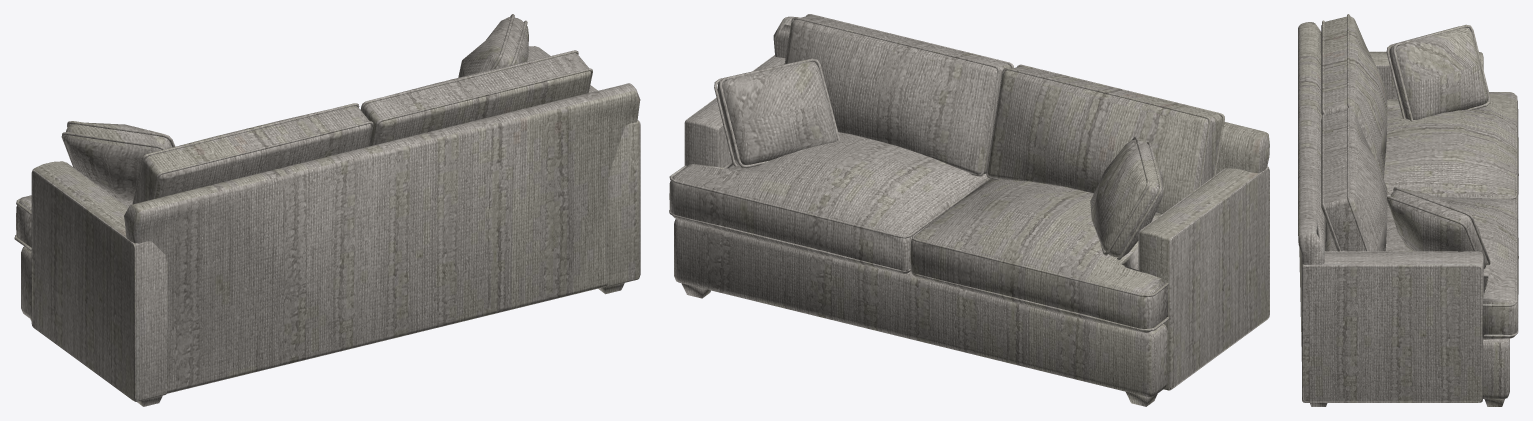
Rendered from sofa.obj.
3 views of the same model, side by side, from view 1: azimuth 30°, elevation 25°; view 2: azimuth 150°, elevation 25°; view 3: azimuth 270°, elevation 25° (orthographic). The views are drawn at different scales.
Parts seen in each view (by area): view 1: Sofa; view 2: Sofa; view 3: Sofa.
Part boxes in pixels (x1=…): Sofa: x1=14, y1=14, x2=640, y2=406; Sofa: x1=669, y1=14, x2=1269, y2=406; Sofa: x1=1298, y1=14, x2=1518, y2=406.
Size of the model in its own units: 1.94 by 0.8447 by 0.8415.
Materials: 1 (1 with a texture image).
